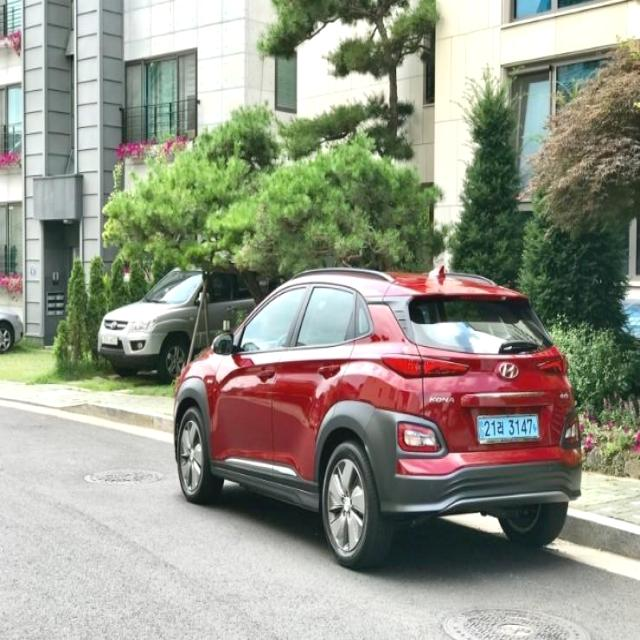EV_plate: (476, 412, 541, 446)
car: (170, 262, 588, 582)
